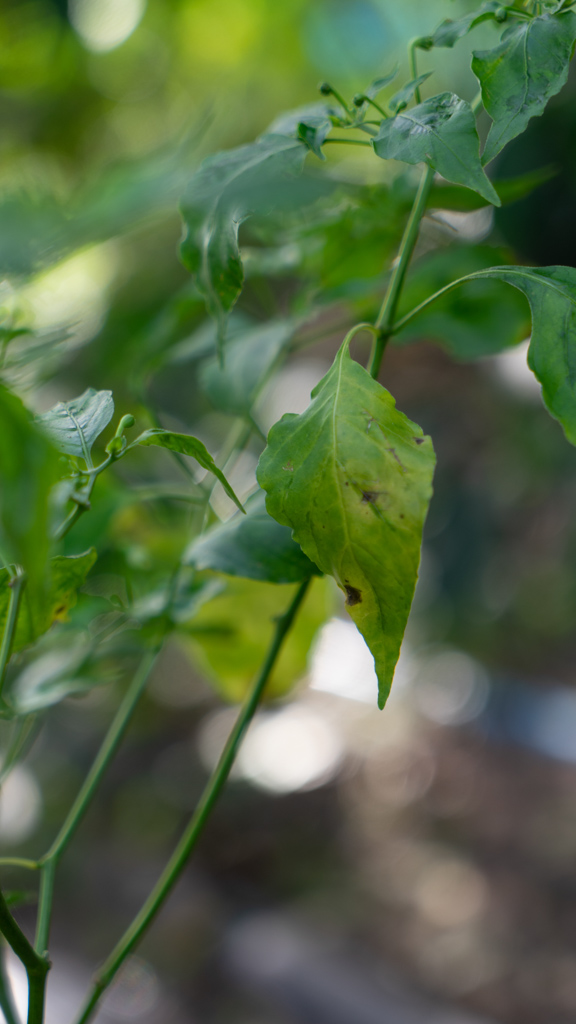Canker: (334, 575, 370, 611), (351, 481, 387, 508)
